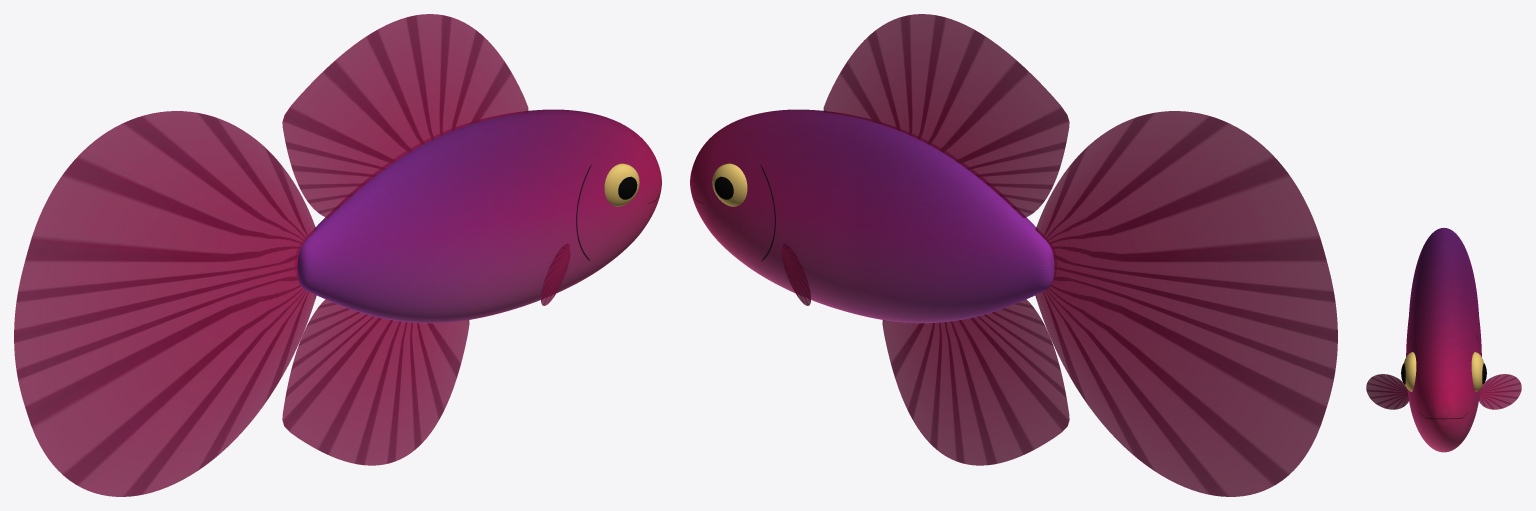
File: betta.glb
3 views of the same model, side by side, from view 1: azimuth 30°, elevation 25°; view 2: azimuth 150°, elevation 25°; view 3: azimuth 270°, elevation 25° (orthographic). The views are drawn at different scales.
Visible parts, largest first — view 1: tail, body, dorsal, anal, pec-1, Sphere; view 2: tail, body, dorsal, anal, pec1, Sphere.002; view 3: body, pec-1, pec1, Sphere, Sphere.002.
Part boxes in pixels (x1,y1,x2,y2): tail: (14,111,316,496); body: (297,109,661,323); dorsal: (282,14,528,218); anal: (282,299,469,465); pec-1: (541,243,570,305); Sphere: (604,163,639,206); tail: (1035,111,1337,496); body: (690,109,1054,323); dorsal: (823,14,1069,218); anal: (882,299,1069,465); pec1: (781,243,810,305); Sphere.002: (712,163,747,206); body: (1406,228,1481,452); pec-1: (1366,374,1408,409); pec1: (1479,374,1521,409); Sphere: (1404,352,1416,391); Sphere.002: (1471,352,1483,391).
Bounding box in the file's own units: 1.79 × 1.17 × 0.4208.
5 materials, 3 textured.
